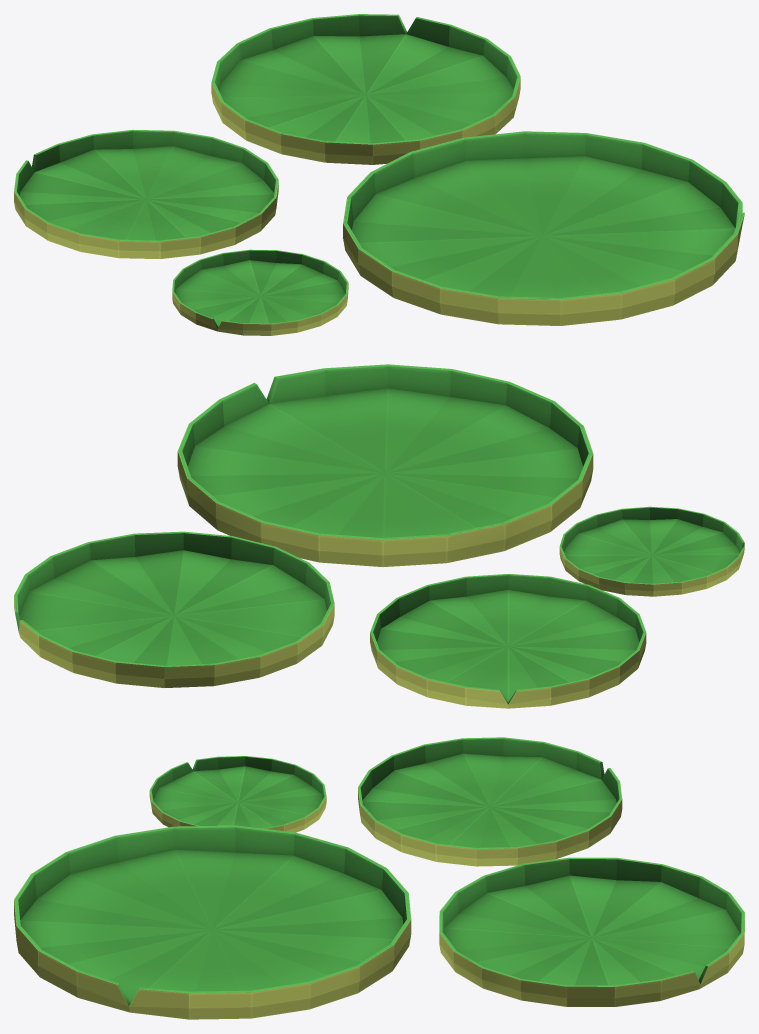
Rendered from f10bbac9-bb48-4b19-a8f7-0642cc7190ee.glb.
3 views of the same model, one above another, from view 1: azimuth 30°, elevation 25°; view 2: azimuth 150°, elevation 25°; view 3: azimuth 270°, elevation 25° (orthographic). The views are drawn at different scales.
Parts seen in each view (by area): view 1: GiantWaterLilies_mesh; view 2: GiantWaterLilies_mesh; view 3: GiantWaterLilies_mesh.
Boxes of the visible parts, x1=… form: GiantWaterLilies_mesh: x1=14, y1=14, x2=744, y2=335; GiantWaterLilies_mesh: x1=14, y1=364, x2=744, y2=708; GiantWaterLilies_mesh: x1=14, y1=737, x2=744, y2=1019.
Bounding box in the file's own units: 18.53 × 0.8835 × 21.59.
Materials: 1 (1 with a texture image).
